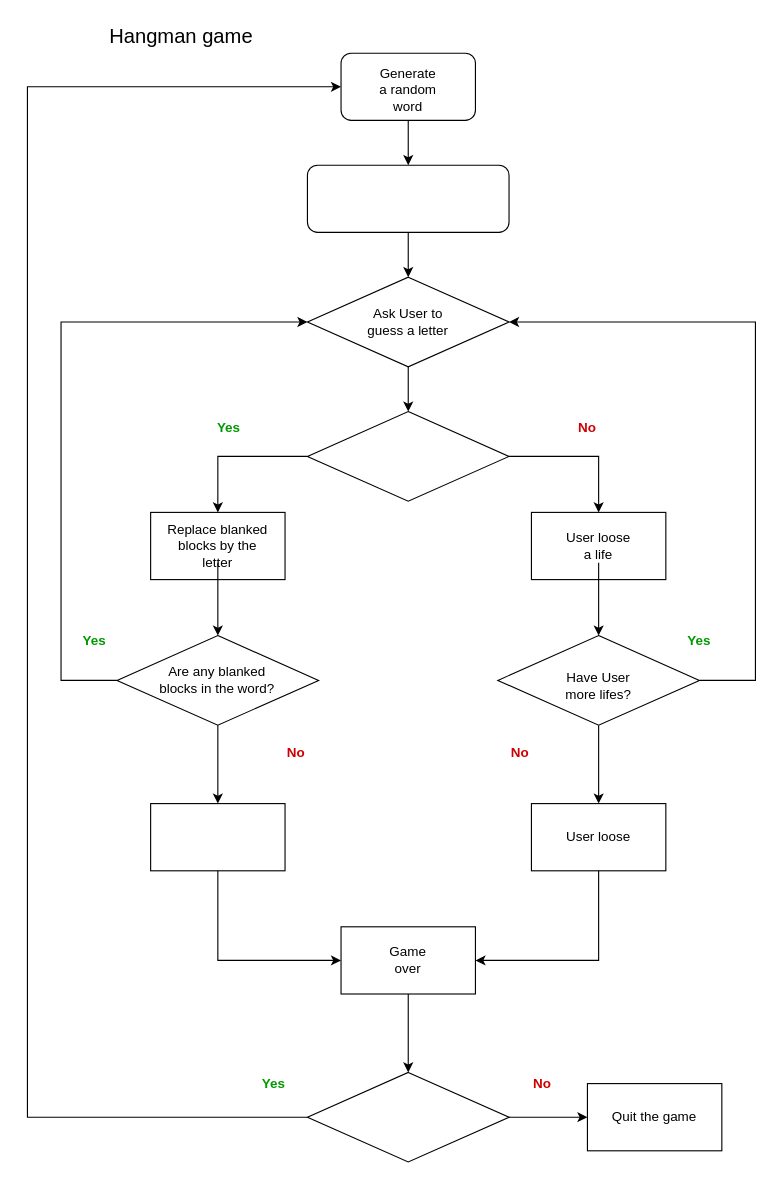
This 784x1182 diagram has some shape labels left out. The shapes that lost their labels are listed below. From the top down, each one's centre as x and y in pixels, then its label:
the point at 407,198: Generate as many blanked blocks as many letters in the word
the point at 407,455: Is the letter in the word?
the point at 217,836: User win
the point at 407,1116: Does User want to play again?
